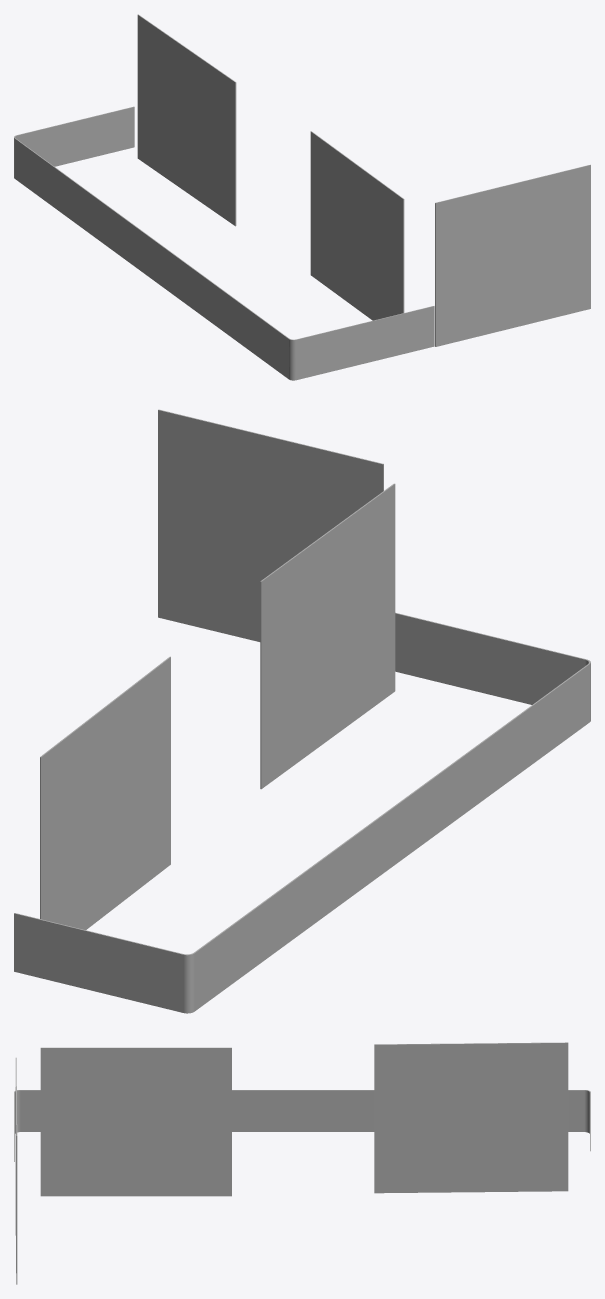
File: floorplan_glass.glb
3 views of the same model, one above another, from view 1: azimuth 30°, elevation 25°; view 2: azimuth 150°, elevation 25°; view 3: azimuth 270°, elevation 25° (orthographic). The views are drawn at different scales.
Visible parts, largest first — view 1: IU2; view 2: IU2; view 3: IU2.
Boxes of the visible parts, x1,y1,x2,y2 form: IU2: (14, 14, 590, 380); IU2: (14, 409, 590, 1013); IU2: (14, 1042, 590, 1284).
Size of the model in its own units: 6.87 by 3.14 by 11.07.
1 material, 1 textured.
